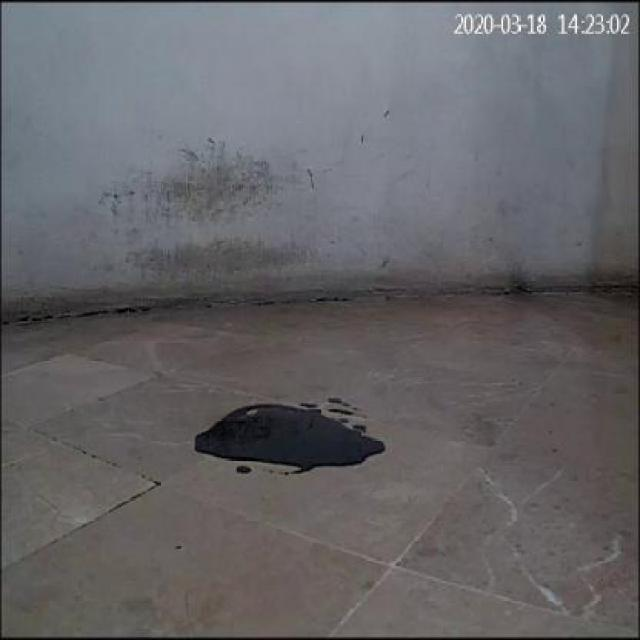spill: (190, 402, 388, 464)
